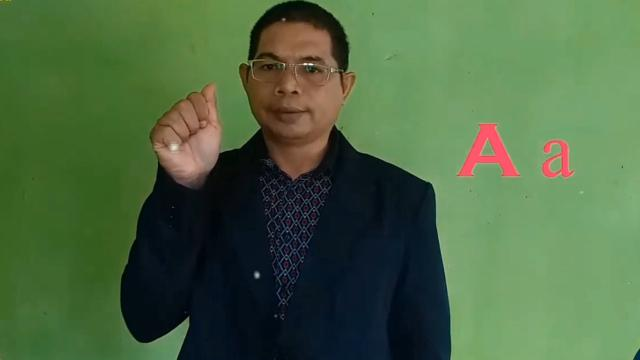A: (148, 81, 232, 195)
